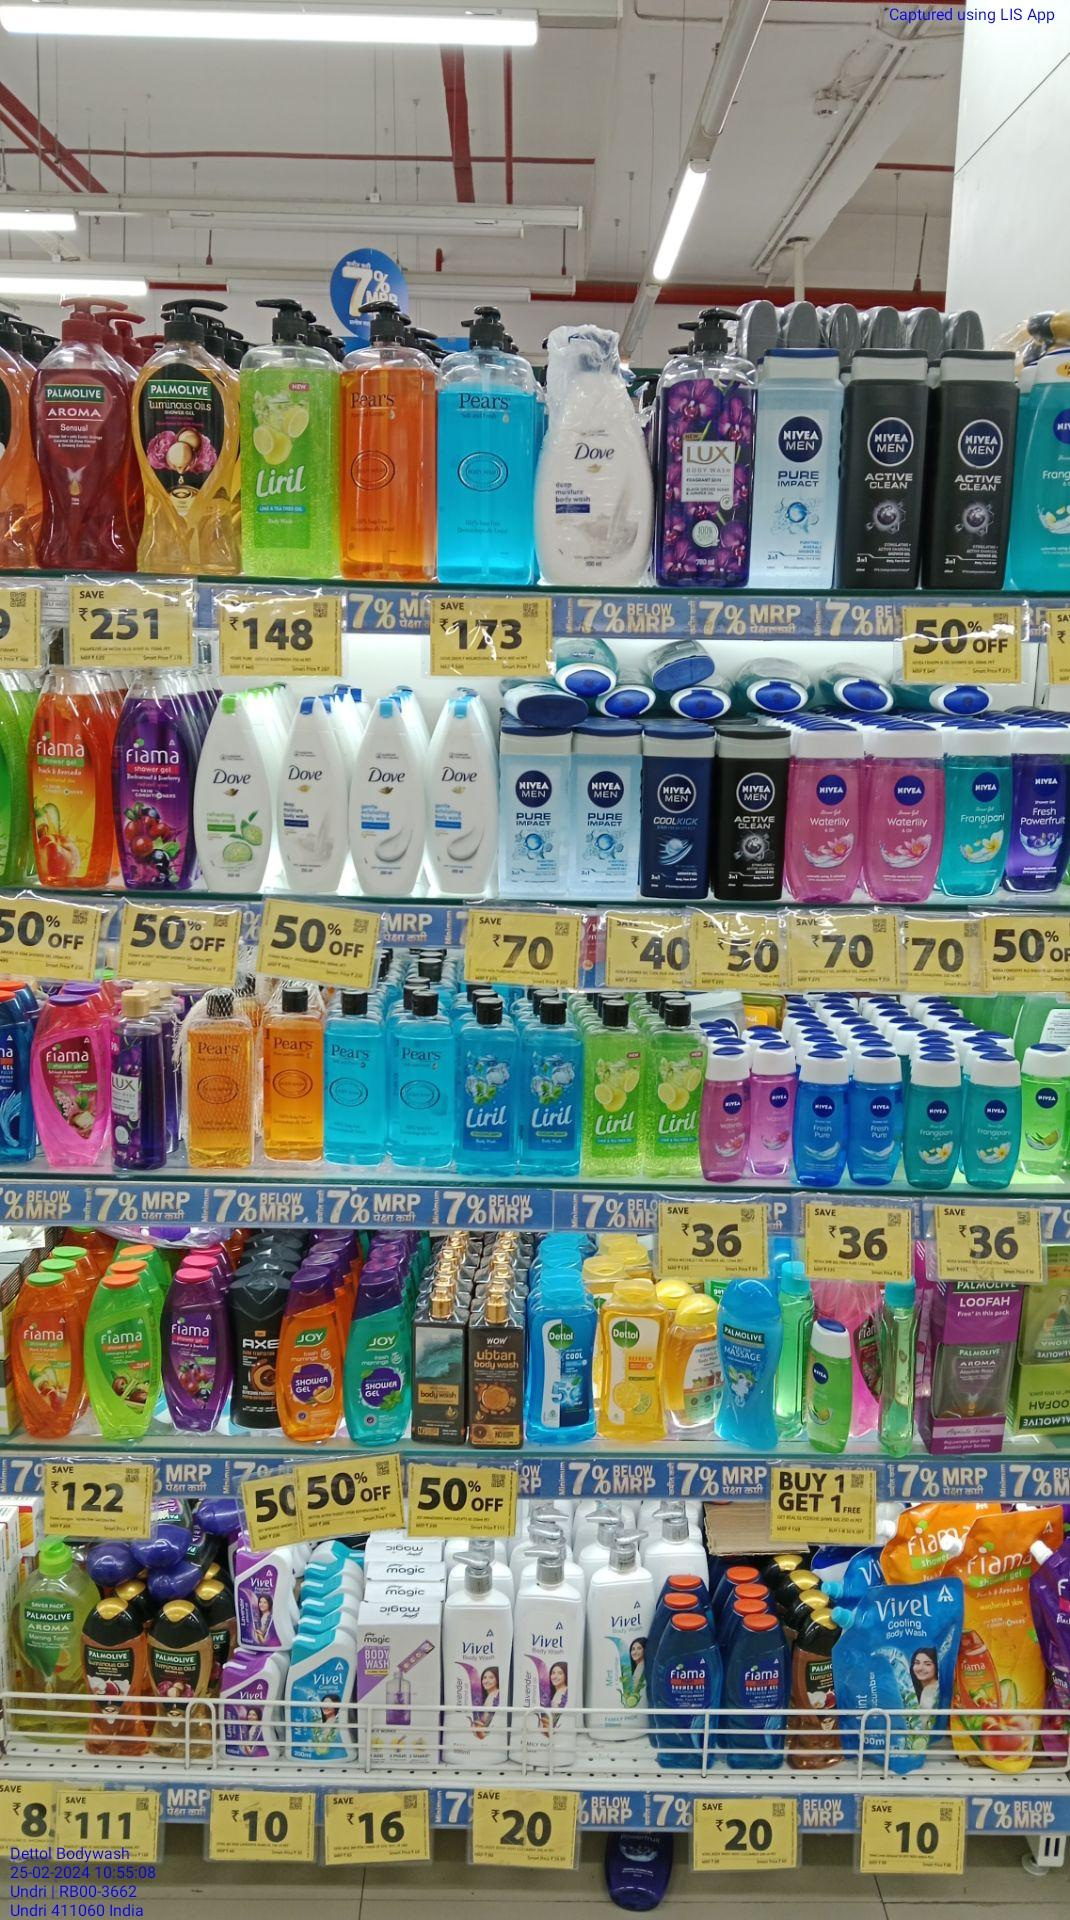Dettol_Bodywash_Cool: (527, 1290, 596, 1446)
Dettol_Bodywash_Refresh: (602, 1290, 664, 1439)
Dove_Deep_Moisture_Body_Wash_250ML: (271, 697, 344, 895)
Dove_Gentle_Exfoliating_Body_Wash_250ML: (427, 701, 501, 896), (351, 702, 423, 895)
Dove_Refreshing_Body_Wash_250ML: (192, 694, 267, 893)
Fiama_Shower_Gel_Lemongrass_and_Jojoba_250ML: (86, 1278, 149, 1438)
Fiama_Shower_Gel_Patchouli_and_Macadamia_250ML: (26, 1000, 108, 1166)
Fiama_Shower_Gel_Peach_and_Avocado_250ML: (13, 1281, 79, 1439)
Joy_Shower_Gel_Mandarin_and_Lemongrass_250ML: (278, 1277, 340, 1440)
Joy_Shower_Gel_Mint_and_Eucalyptus_250ML: (343, 1281, 412, 1446)
Liril_Cooling_Mint_Body_Wash_250ML: (460, 1000, 519, 1174), (526, 1005, 580, 1175)
Liril_Lime_and_Tea_Tree_Oil_Body_Wash_250ML: (585, 1007, 647, 1174), (655, 1003, 701, 1172)
Lux_Black_Orchid_Scent_and_Juniper_Oil_Body_Wash_245ML: (116, 995, 166, 1168)
Nivea_Shower_Gel_Frangipani_and_Oil_250ML: (947, 733, 1007, 900), (965, 1057, 1023, 1190), (907, 1058, 963, 1189)
Nivea_Shower_Gel_Fresh_Powerfruit_250ML: (1015, 729, 1070, 891)
Nivea_Shower_Gel_Lemon_and_Oil_250ML: (809, 1318, 854, 1451)
Nivea_Shower_Gel_Waterlily_and_Oil_250ML: (789, 730, 864, 905), (868, 725, 941, 904), (705, 1053, 750, 1181), (754, 1048, 792, 1179)
Palmolive_Aroma_Moments_Feel_The_Massage_Shower_Gel_250ML: (716, 1282, 781, 1454)
Pears_Pure_Glycerin_and_Mint_Extracts_Body_Wash_250ML: (322, 991, 385, 1164), (391, 991, 449, 1161)
